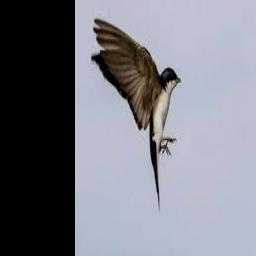Swallow: (91, 18, 180, 212)
